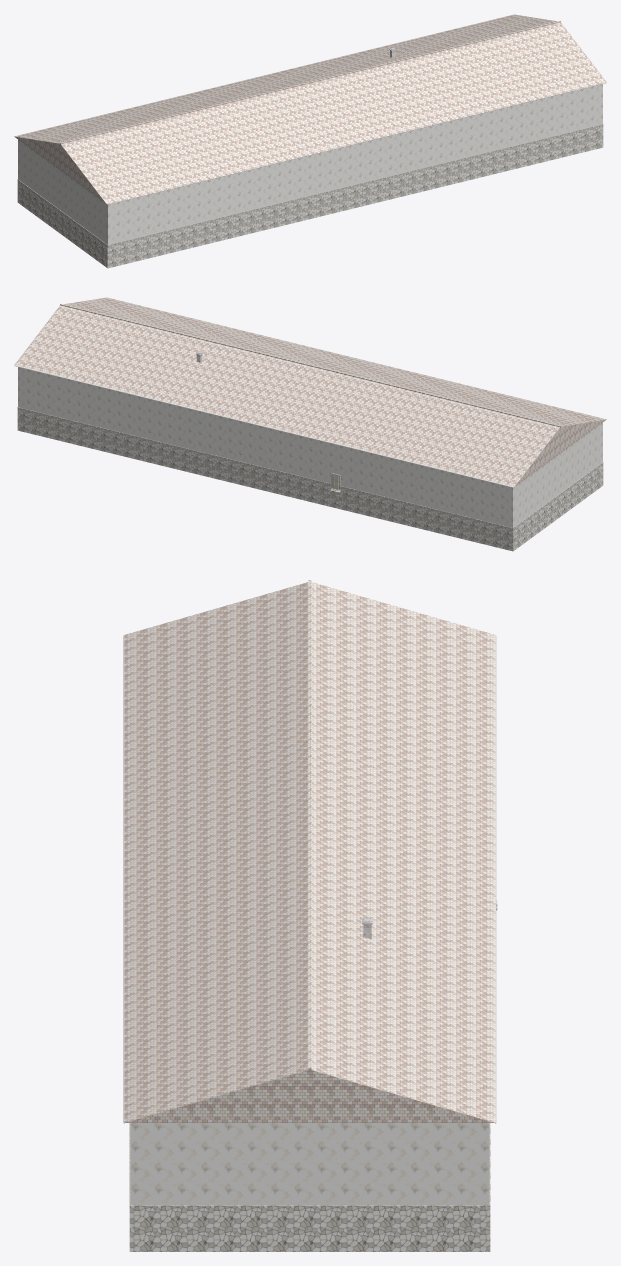
3 renders of one model, top to bottom at view 1: azimuth 30°, elevation 25°; view 2: azimuth 150°, elevation 25°; view 3: azimuth 270°, elevation 25°, orthographic. The views are drawn at different scales.
Parts seen in each view (by area): view 1: b253167686; view 2: b253167686; view 3: b253167686.
Part boxes in pixels (x1,y1,x2,y2): b253167686: (14, 14, 606, 268); b253167686: (14, 297, 606, 551); b253167686: (123, 580, 497, 1251).
Size of the model in its own units: 69.48 by 12.32 by 22.46.
14 materials, 14 textured.
